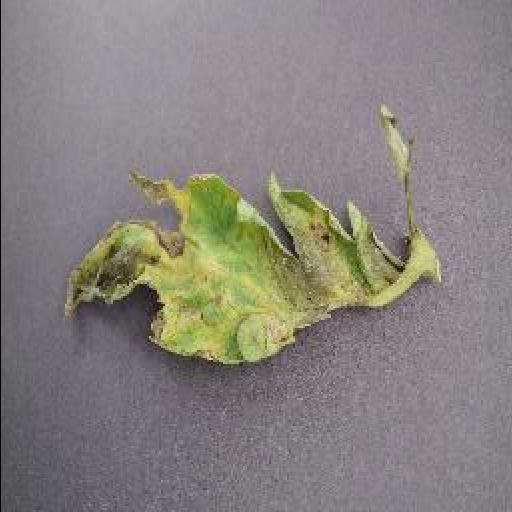disease_tomato: (57, 174, 399, 364)
